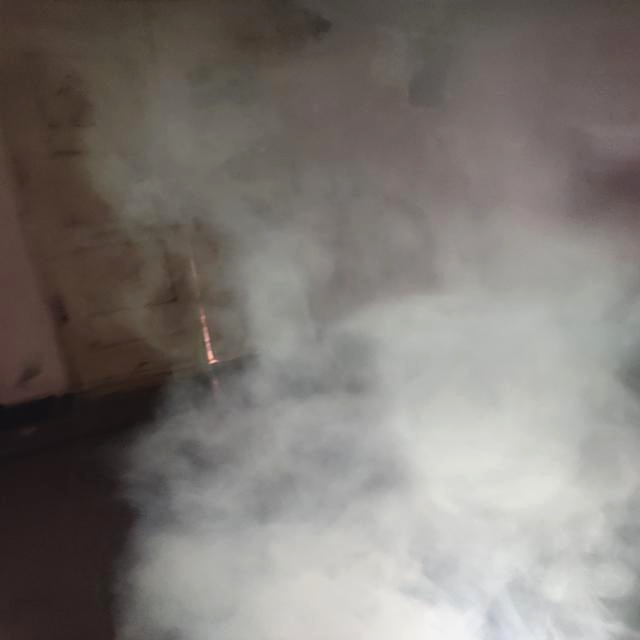smoke: (188, 2, 635, 640)
